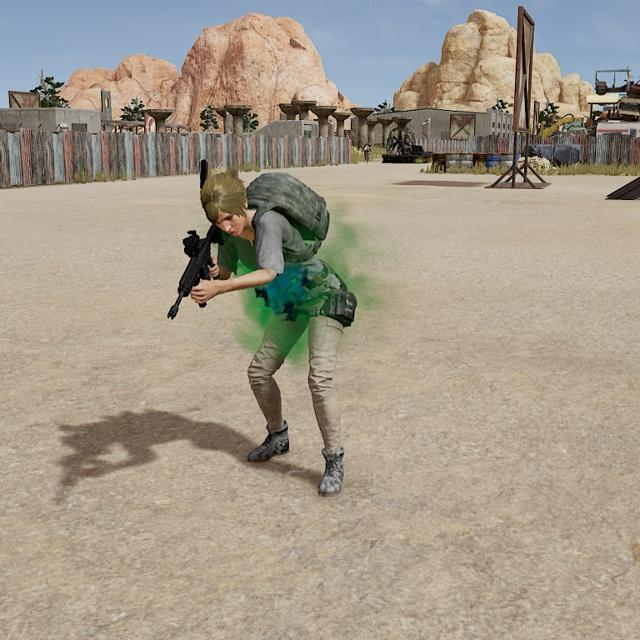head: (196, 163, 256, 238)
people: (186, 162, 369, 501)
